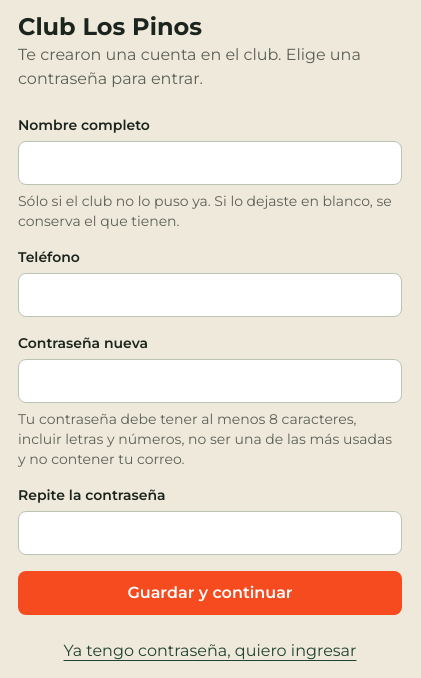
Test case: Aceptar la invitación (T-126, HU-010-02) › define la contraseña y manda a ingresar, con el token del enlace
Type "mi-clave-nueva-7" into the password field labelled "Contraseña nueva" at x=210, y=381, box [18, 359, 402, 403]
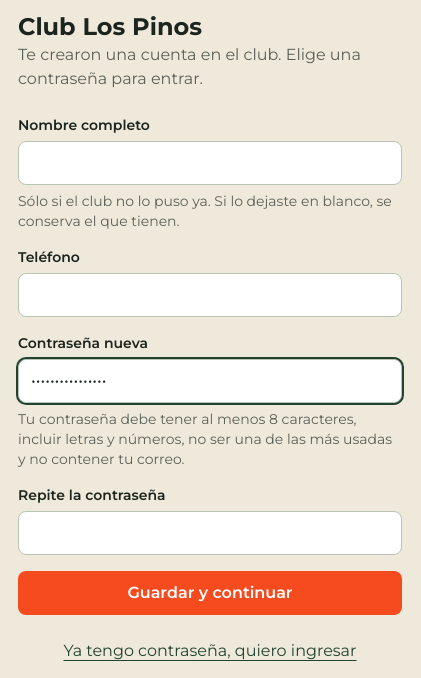
Type "mi-clave-nueva-7" into the password field labelled "Repite la contraseña" at x=210, y=533, box [18, 511, 402, 555]
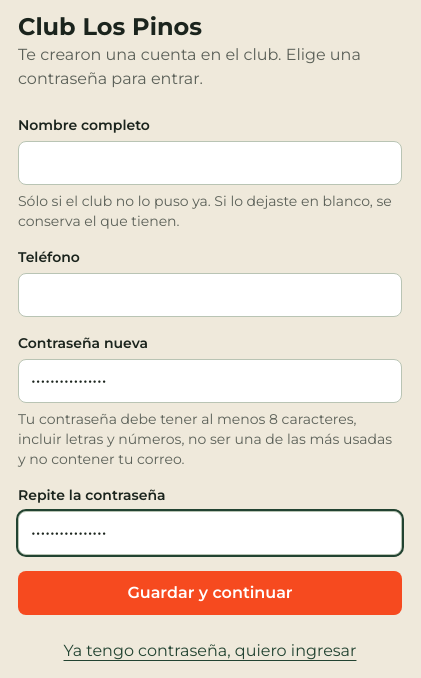
Click the button "Guardar y continuar" at x=210, y=593, box [18, 571, 402, 615]
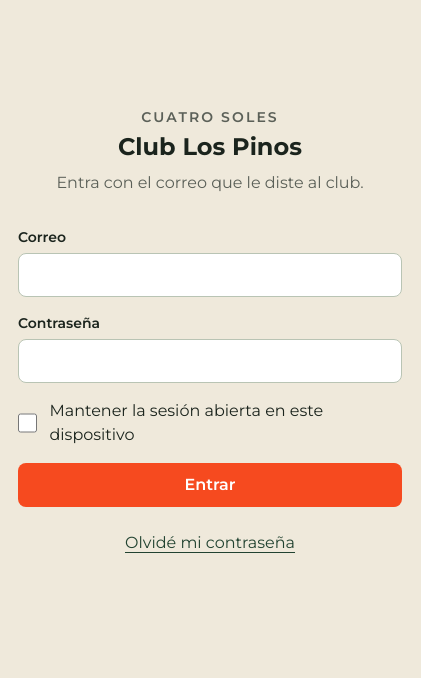
Now the checkbox labelled "Mantener la sesión abierta en este dispositivo" is shown, box [18, 413, 37, 433]
